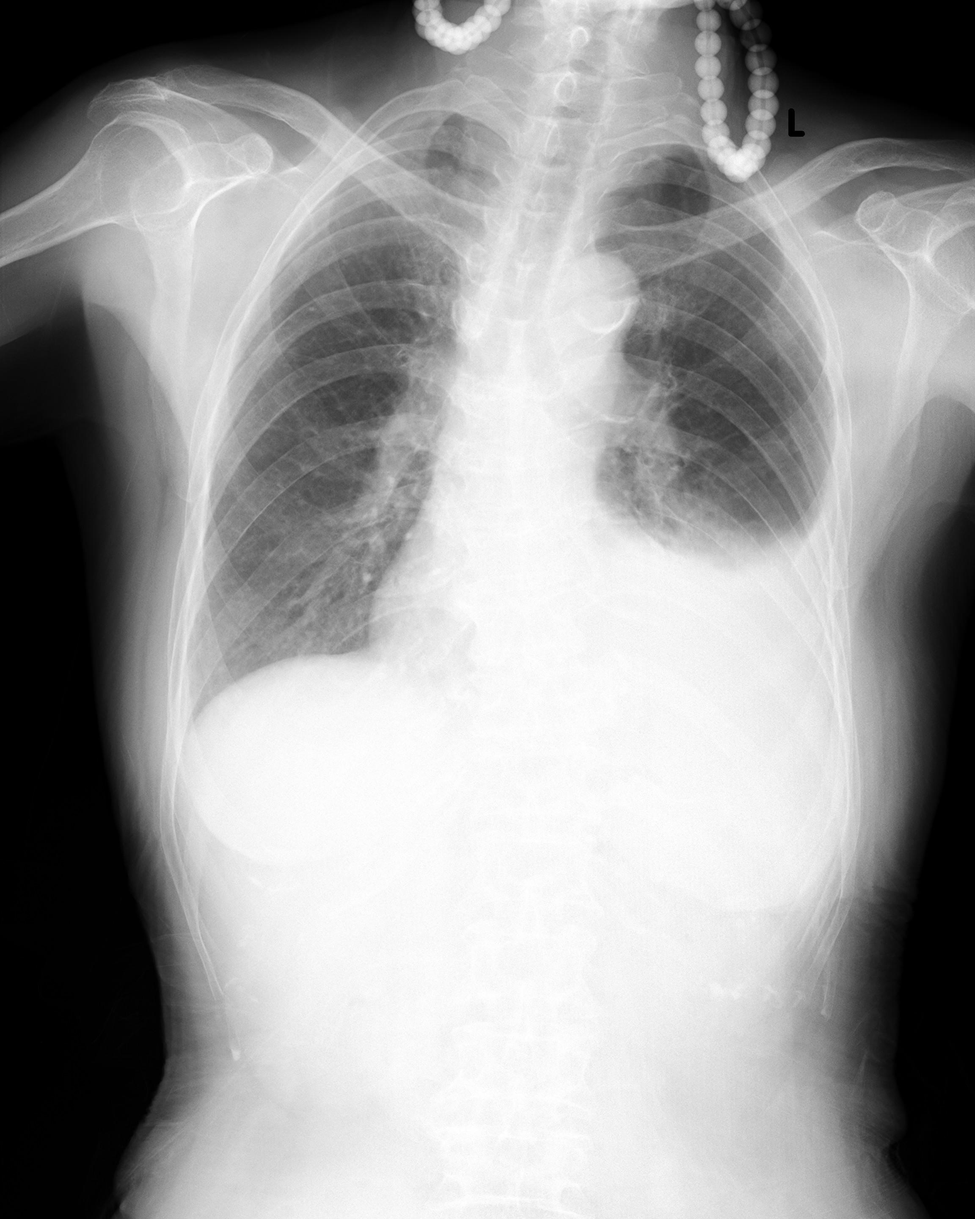Aortic enlargement: (548, 251, 642, 360)
